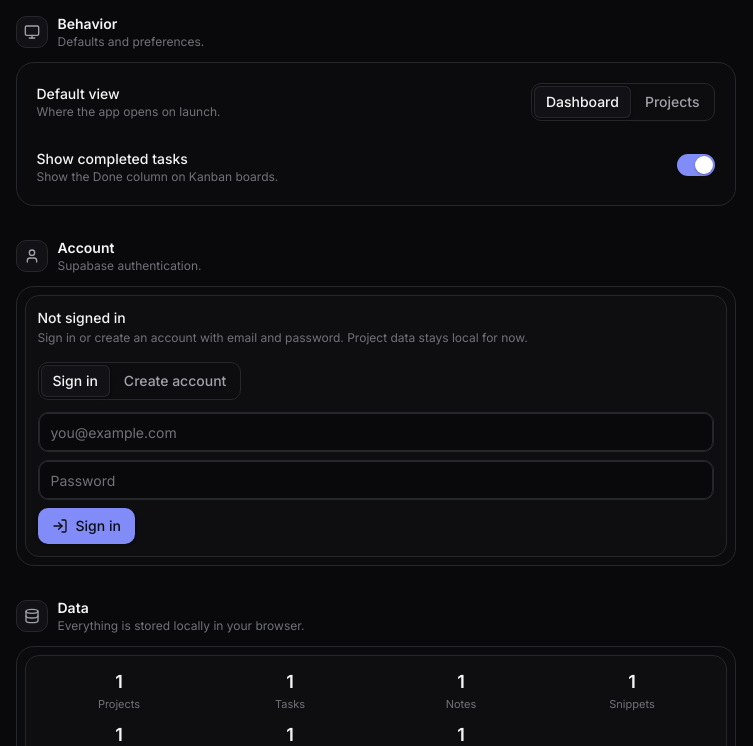
SettingsPage auth status › validates password confirmation during sign up
This screenshot has width=753, height=746.
(page scrolled)
Click the button "Create account" at {"x": 175, "y": 381}, box [112,365,238,397]
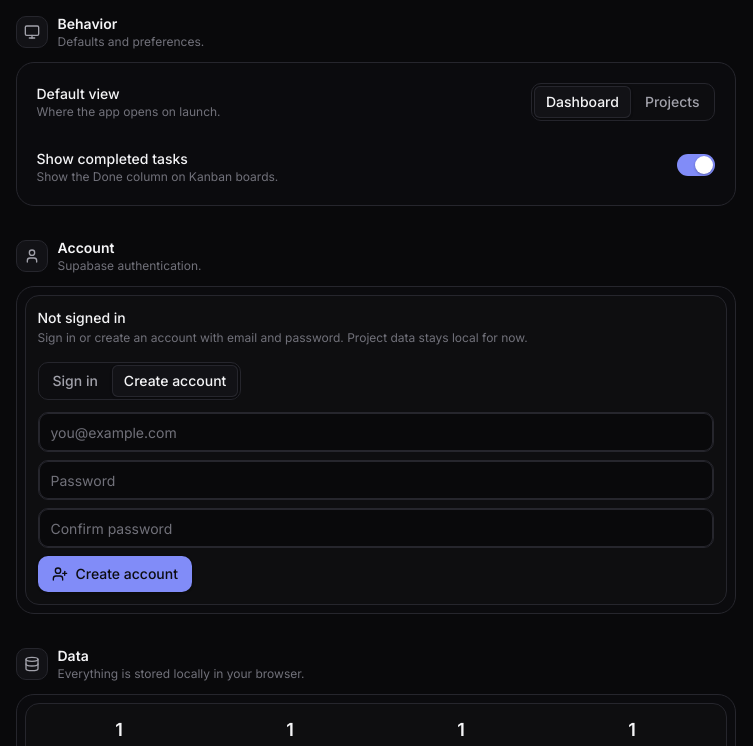
Type "user@example.com" into the field with placeholder "you@example.com" at {"x": 376, "y": 432}, box [38,412,714,452]
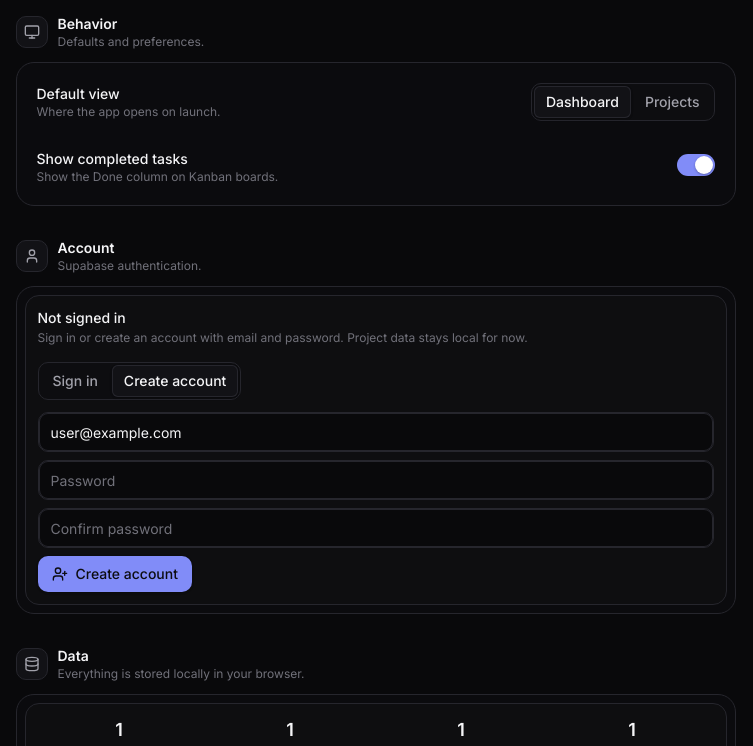
Type "password123" into the password field with placeholder "Password" at {"x": 376, "y": 480}, box [38,460,714,500]
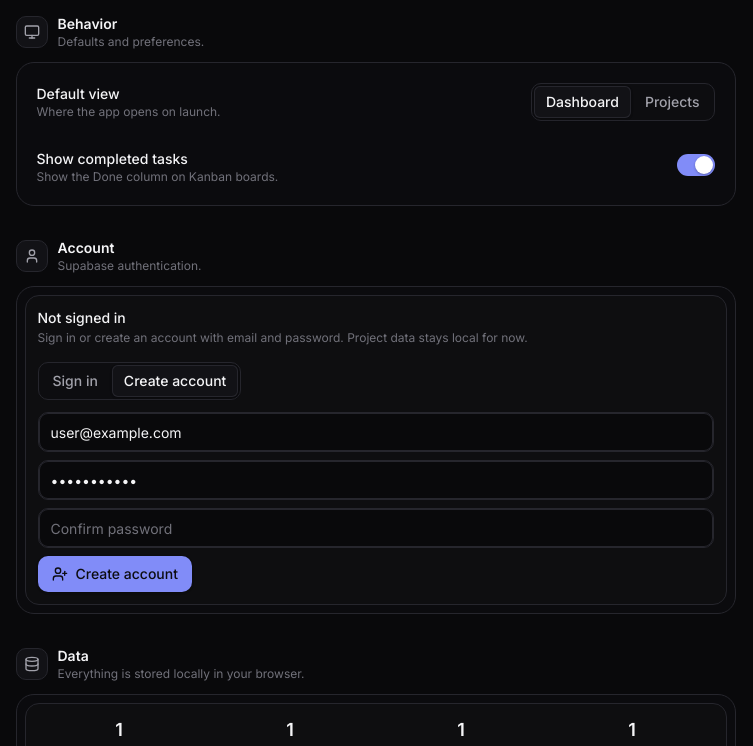
Type "password321" into the password field with placeholder "Confirm password" at {"x": 376, "y": 528}, box [38,508,714,548]
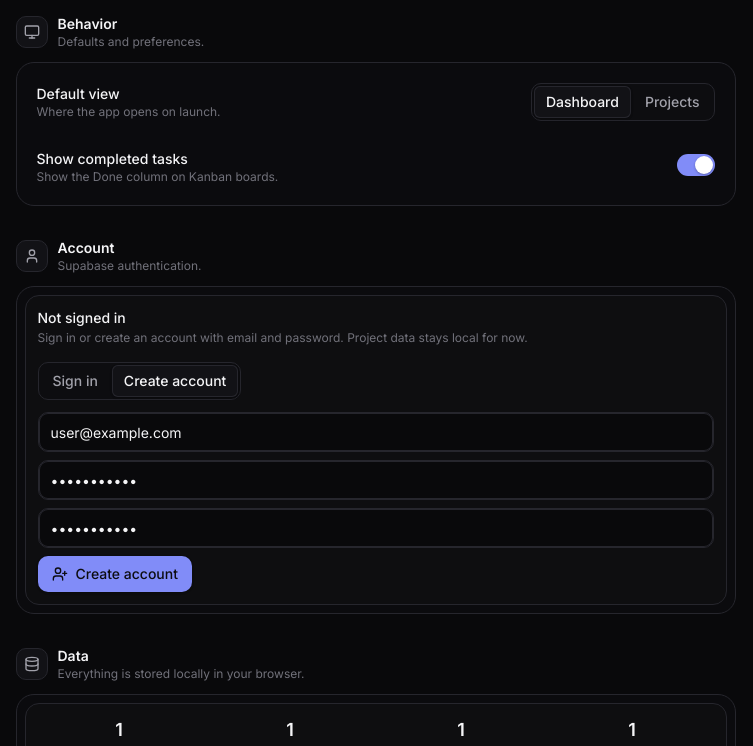
Click the 2nd button "Create account" at {"x": 115, "y": 574}, box [38,556,192,592]
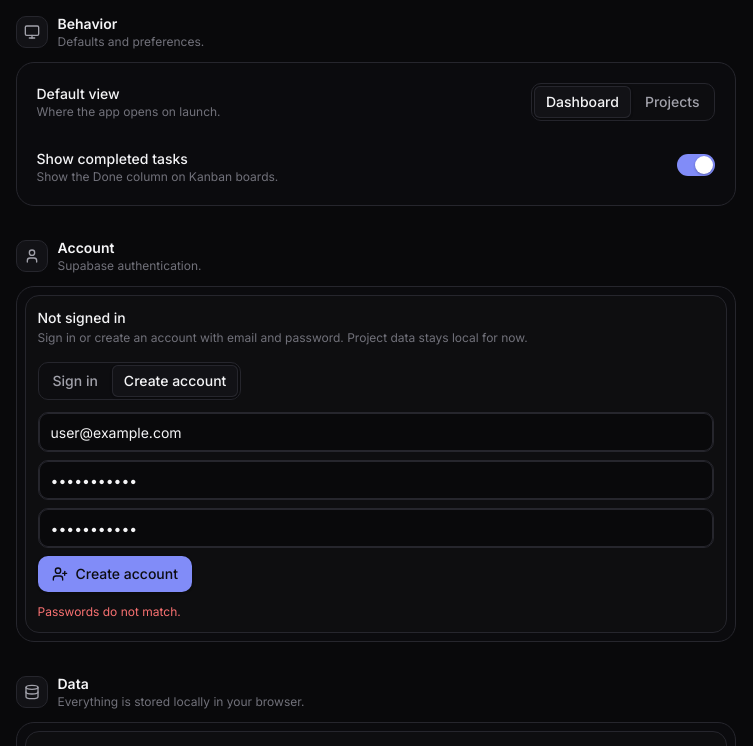
Now the text "Passwords do not match." is shown, box [38,604,181,619]
